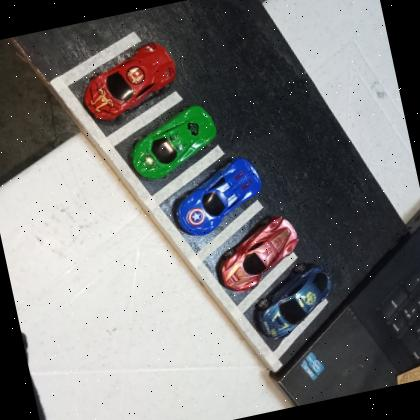Car: (73, 37, 185, 127), (166, 152, 272, 241), (120, 100, 226, 187), (244, 256, 345, 344), (208, 211, 308, 296)
